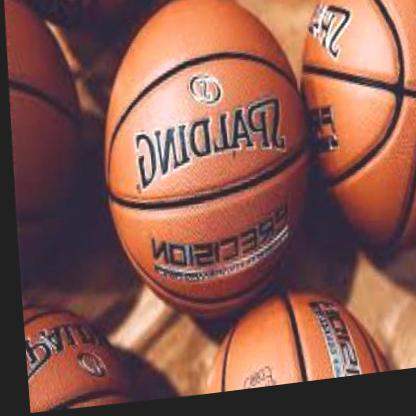basketball: (89, 0, 315, 327), (289, 0, 416, 268), (0, 0, 90, 273), (188, 286, 387, 399), (18, 299, 126, 412)
